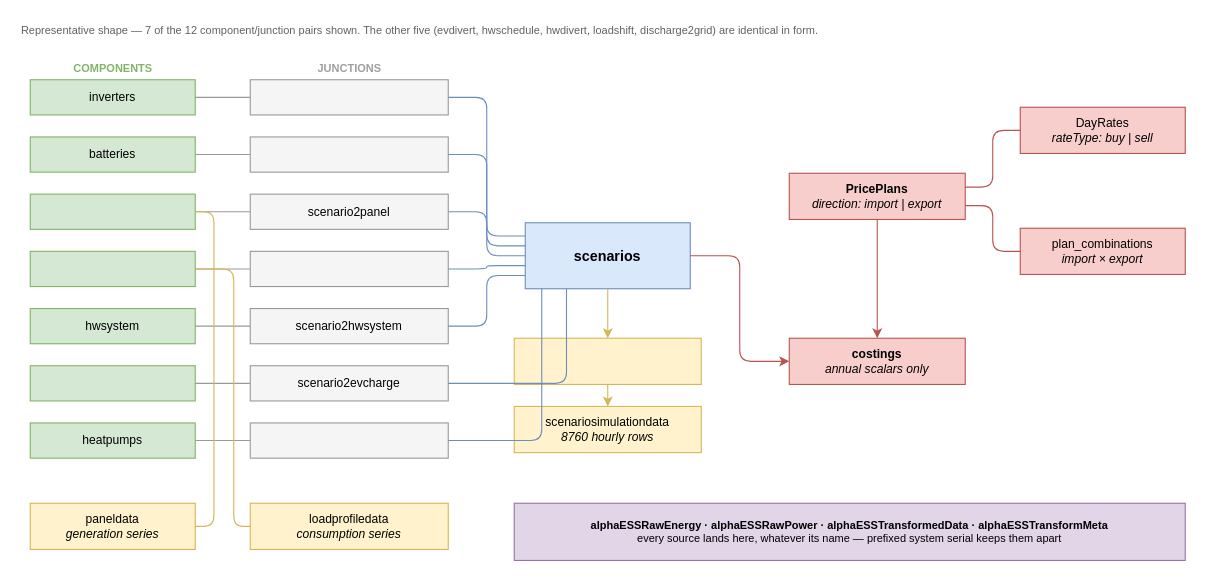
The diagram is 1205 pixels wide and 580 high, and some of its shapes have lost their labels. The centre of each missing label's shape, as x and y in pixels:
"evcharge" belongs at [112,383].
"loadprofile" belongs at [112,268].
"panels" belongs at [112,211].
"scenario2battery" belongs at [348,154].
"scenario2heatpump" belongs at [348,440].
"scenario2inverter" belongs at [348,97].
"scenario2loadprofile" belongs at [348,268].
"scenario_readiness gates sim + costing" belongs at [607,360].
